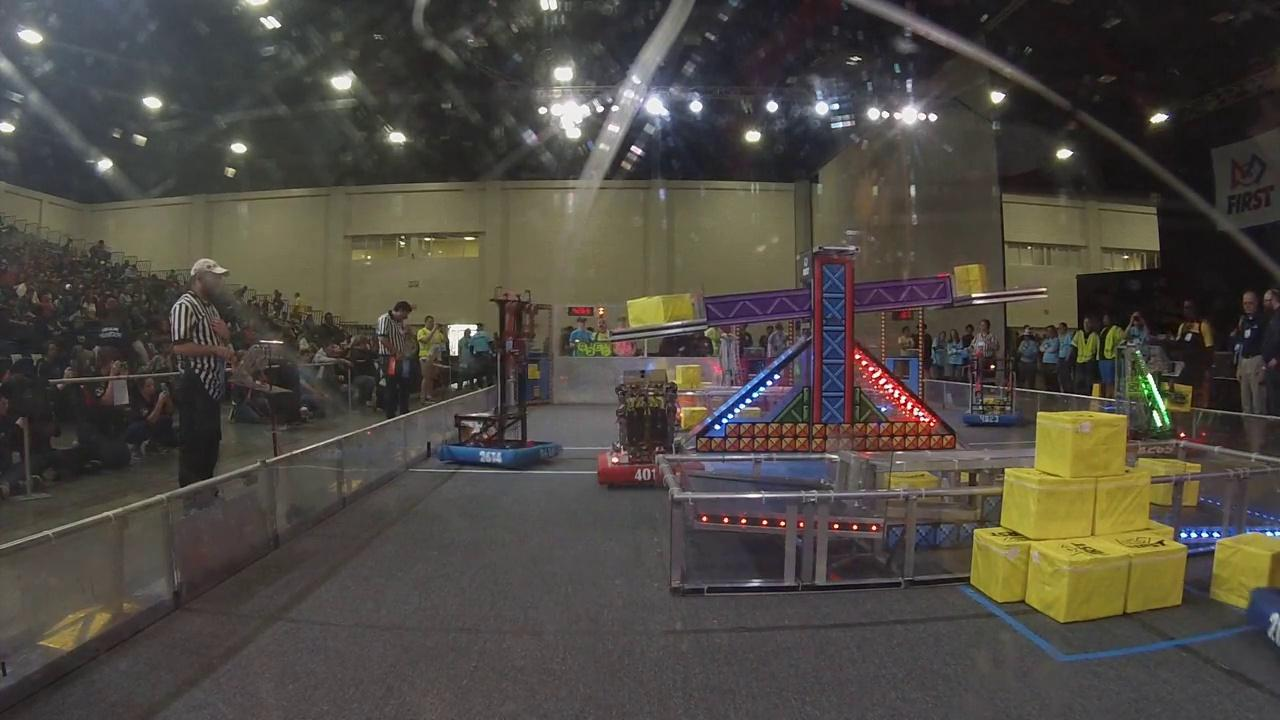robot: (433, 288, 564, 470), (1098, 342, 1206, 460), (599, 375, 709, 488), (959, 360, 1024, 431)
